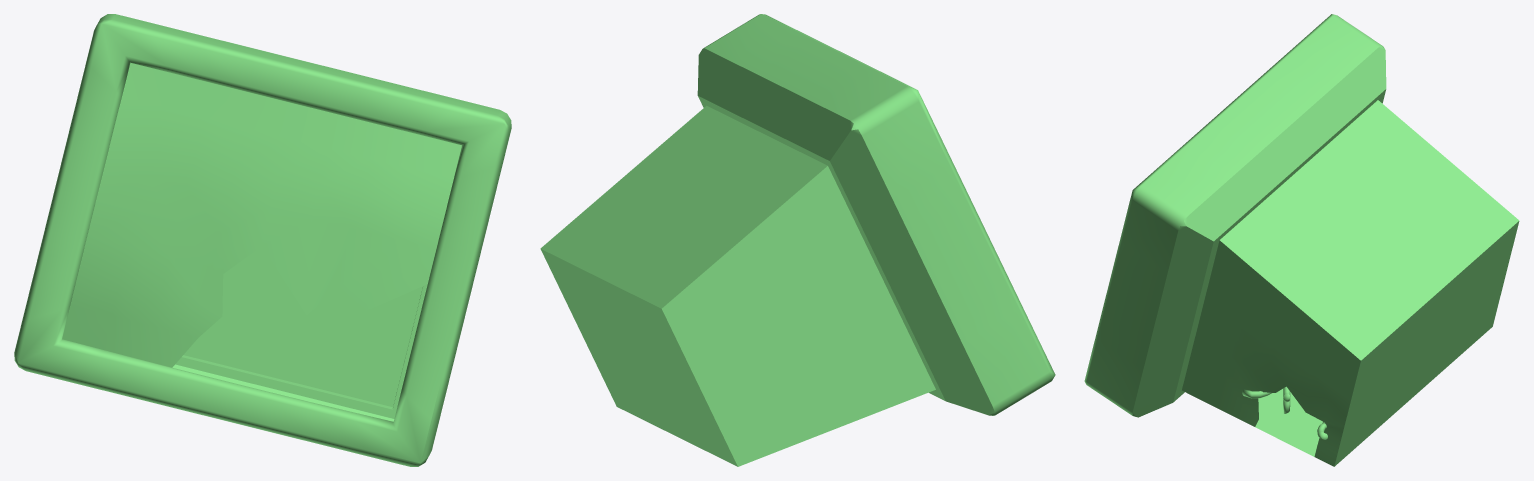
File: GDT_Computer.fbx
3 renders of one model, left to right at view 1: azimuth 30°, elevation 25°; view 2: azimuth 150°, elevation 25°; view 3: azimuth 270°, elevation 25°, orthographic. The views are drawn at different scales.
Parts seen in each view (by area): view 1: Monitor; view 2: Monitor; view 3: Monitor.
Part boxes in pixels (x1=…): Monitor: x1=14, y1=14, x2=511, y2=466; Monitor: x1=540, y1=14, x2=1055, y2=466; Monitor: x1=1084, y1=14, x2=1519, y2=466.
Bounding box in the file's own units: 80.34 × 63.81 × 76.13.
